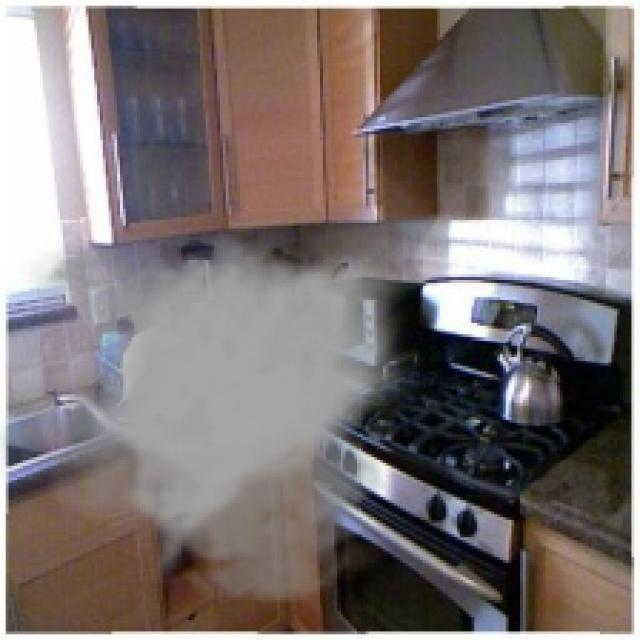Smoke: (0, 234, 420, 609)
